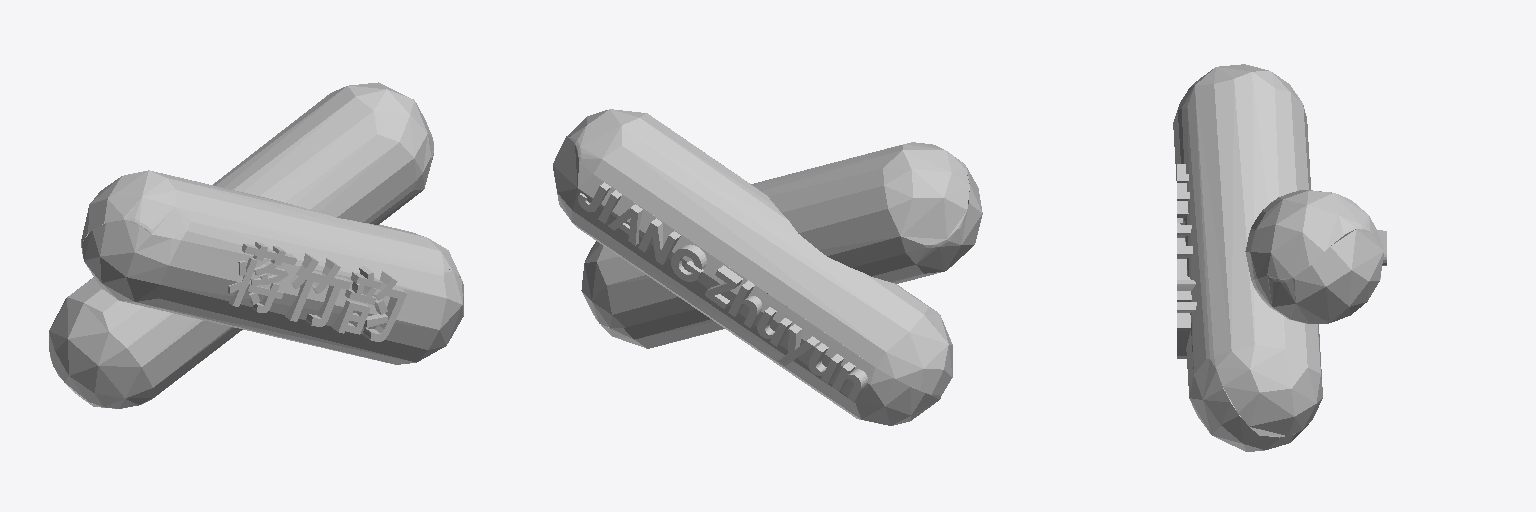
The model's file is JiangZhuyun.obj.
3 renders of one model, left to right at view 1: azimuth 30°, elevation 25°; view 2: azimuth 150°, elevation 25°; view 3: azimuth 270°, elevation 25°, orthographic.
Parts seen in each view (by area): view 1: root_3, root_2, node_id379; view 2: root_2, root_3, node_id390; view 3: root_3, root_2, node_id379.
Part boxes in pixels (x1,y1,x2,y2): root_3: (81,170,463,364); root_2: (49,82,433,408); node_id379: (228,242,406,341); root_2: (553,109,952,425); root_3: (581,142,982,348); node_id390: (578,182,867,402); root_3: (1173,64,1322,451); root_2: (1245,190,1383,323); node_id379: (1177,164,1196,358).
Bounding box in the file's own units: 0.289 × 0.1836 × 0.1419.